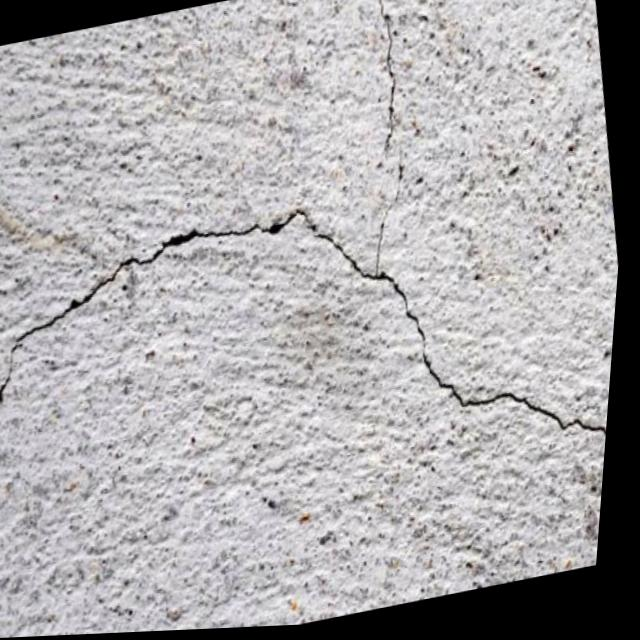Crack: (0, 150, 630, 640), (340, 0, 441, 169)
